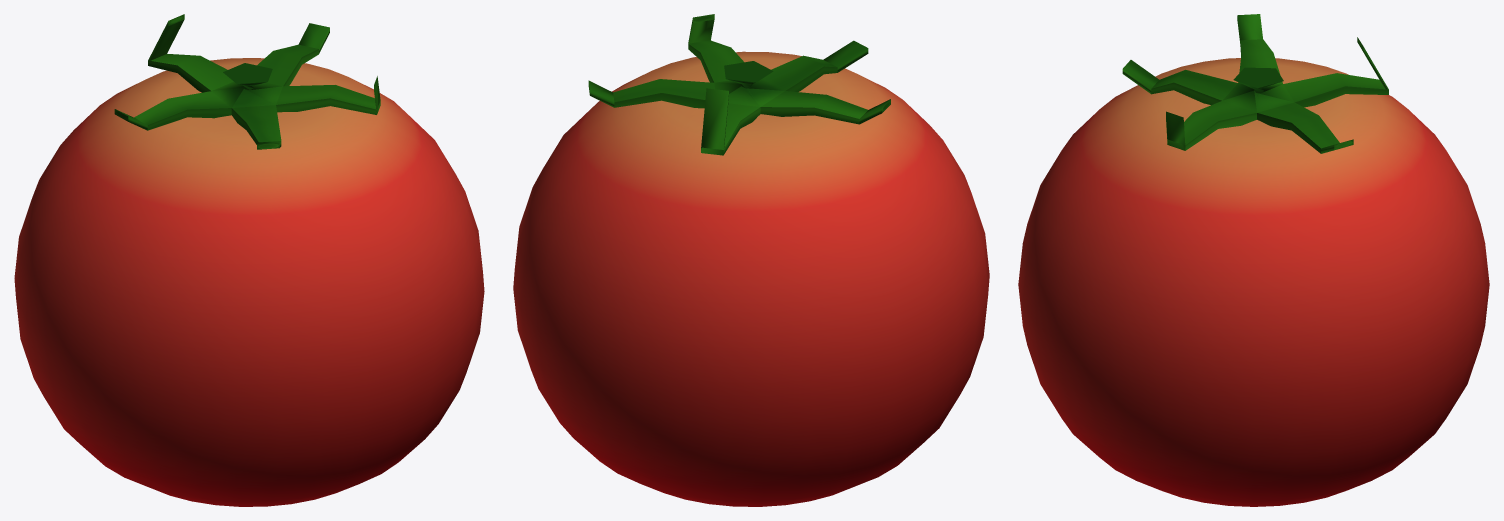
The model's file is tomato.glb.
3 renders of one model, left to right at view 1: azimuth 30°, elevation 25°; view 2: azimuth 150°, elevation 25°; view 3: azimuth 270°, elevation 25°, orthographic.
Parts seen in each view (by area): view 1: 球.042, 円柱.007; view 2: 球.042, 円柱.007; view 3: 球.042, 円柱.007.
Part boxes in pixels (x1=…): 球.042: x1=14, y1=58, x2=484, y2=506; 円柱.007: x1=114, y1=14, x2=380, y2=149; 球.042: x1=513, y1=51, x2=989, y2=506; 円柱.007: x1=588, y1=14, x2=890, y2=155; 球.042: x1=1018, y1=58, x2=1489, y2=506; 円柱.007: x1=1122, y1=14, x2=1388, y2=153.
Bounding box in the file's own units: 0.2071 × 0.2105 × 0.2071.
2 materials, 2 textured.
